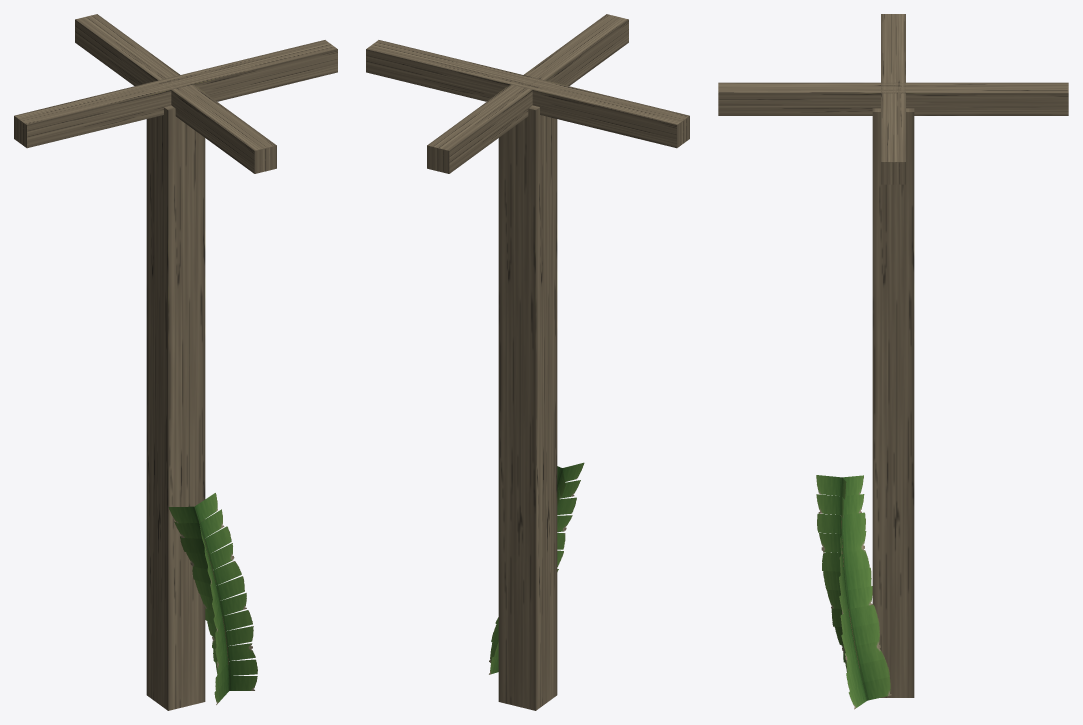
The model's file is dragonfruit_1.obj.
3 views of the same model, side by side, from view 1: azimuth 30°, elevation 25°; view 2: azimuth 150°, elevation 25°; view 3: azimuth 270°, elevation 25° (orthographic). The views are drawn at different scales.
Visible parts, largest first — view 1: dragonfruit; view 2: dragonfruit; view 3: dragonfruit.
Part boxes in pixels (box(x1,y1,x2,y2)): dragonfruit: box(14, 14, 337, 710); dragonfruit: box(366, 14, 689, 710); dragonfruit: box(718, 14, 1068, 709).
Bounding box in the file's own units: 0.84 × 1.59 × 0.84.
